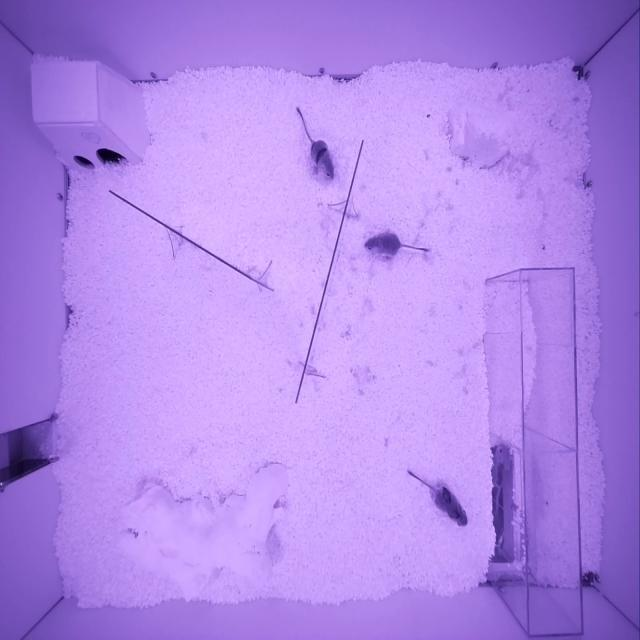pup_fluffy: (363, 231, 401, 258)
pup_h_stripe: (309, 140, 334, 180)
pup_spotted: (431, 485, 468, 527)
